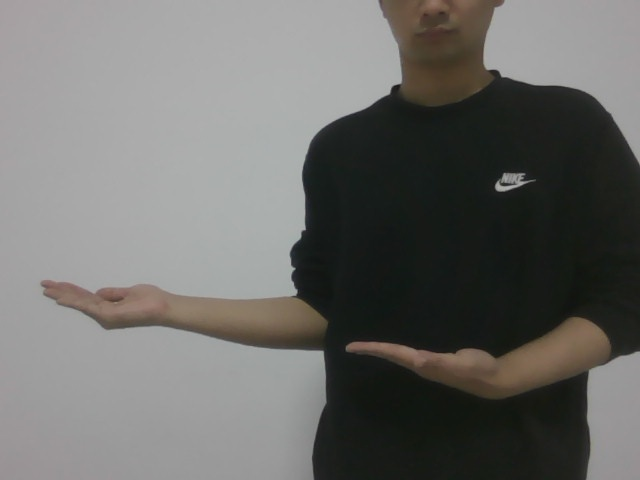please: (35, 264, 513, 413)
